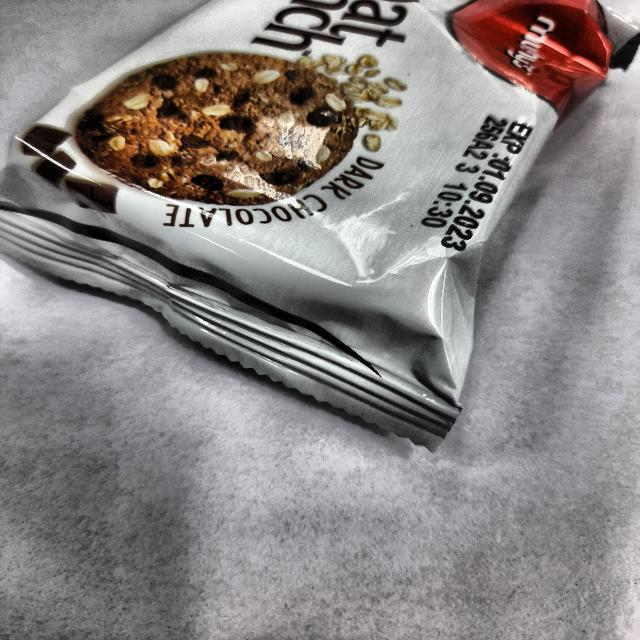Plastic: (16, 0, 592, 452)
